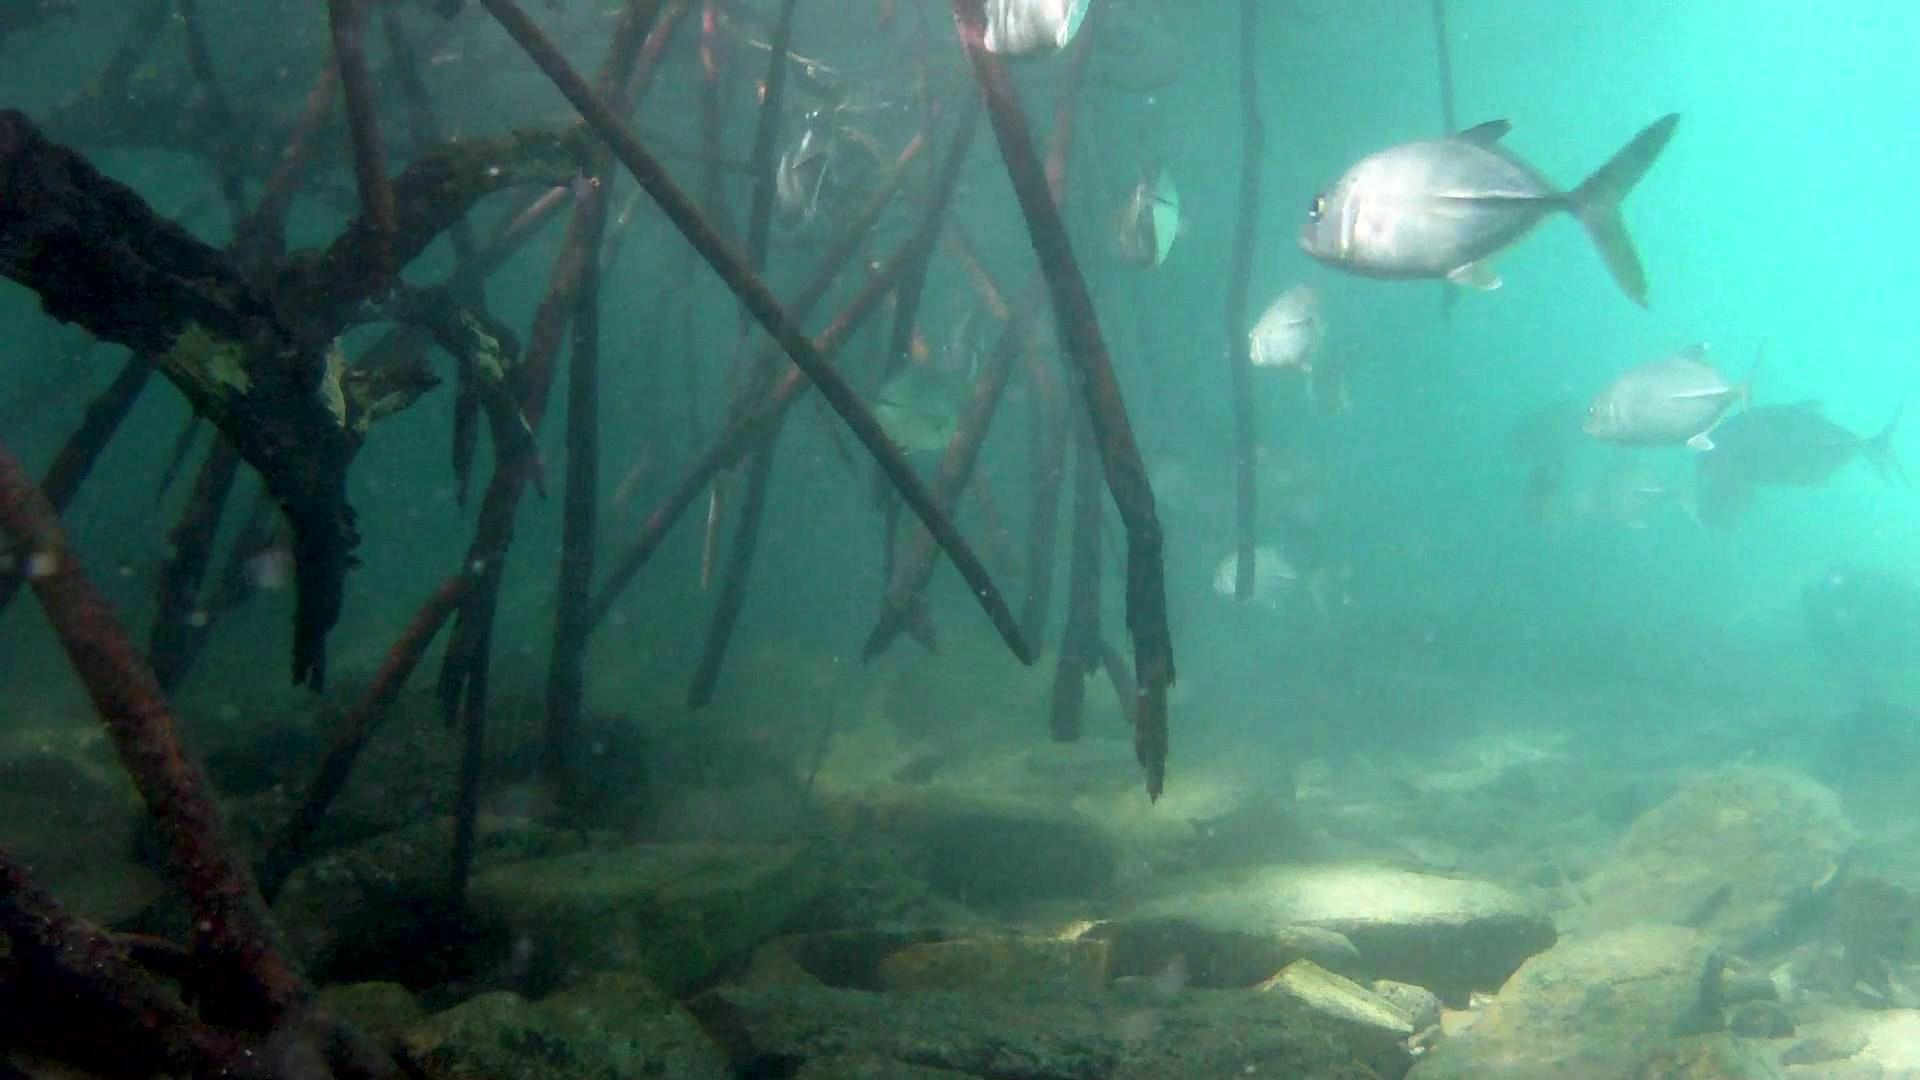caranx: (1291, 105, 1687, 302)
